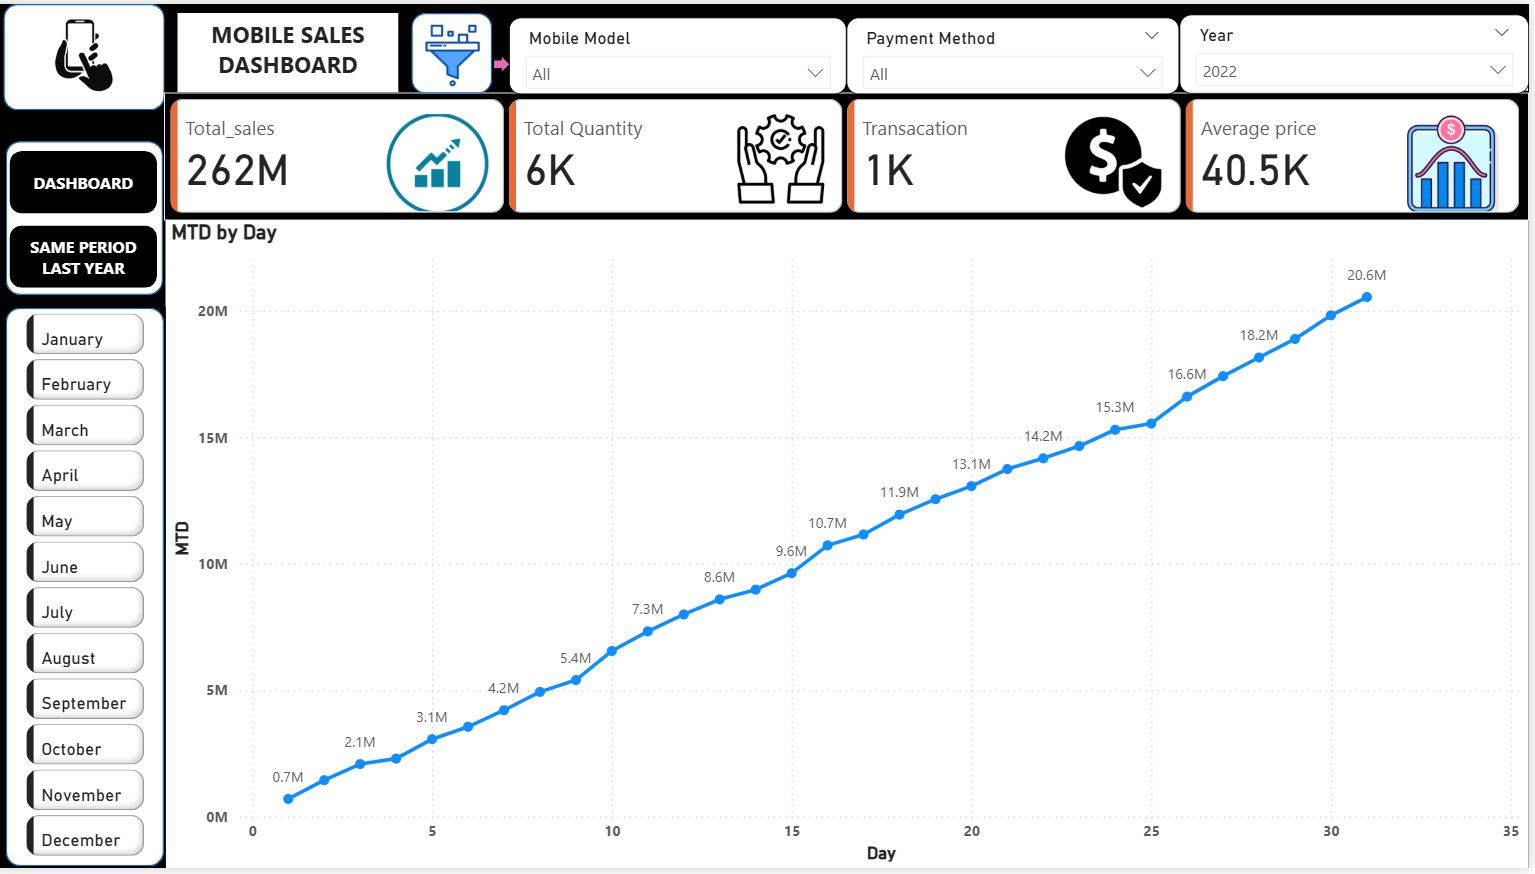

This screenshot's page, from the dashboard's own definition file:
{"tool":"powerbi","page":{"name":"MTD REPORT","canvas":[1280,720],"ordinal":1},"visuals":[{"type":"shape","box":[10,114.3,132.9,130],"z":0},{"type":"shape","box":[8.6,0,134.3,88.6],"z":1000},{"type":"image","box":[8.6,0,134.3,85.7],"z":2000},{"type":"cardVisual","fields":{"Data":["Mobile_sales_data.Total_sales","Mobile_sales_data.Total Quantity","Mobile_sales_data.Transacation","Mobile_sales_data.Average price"]},"box":[142.6,73.8,1137,105.7],"z":3000},{"type":"slicer","fields":{"Values":["Mobile_sales_data.Payment Method"]},"box":[711.4,11.4,277.1,64.3],"z":4000},{"type":"slicer","fields":{"Values":["Mobile_sales_data.Mobile Model"]},"box":[430,11.4,281.4,64.3],"z":5000},{"type":"slicer","fields":{"Values":["Date.Date.Variation.Date Hierarchy.Year"]},"box":[988.6,8.6,291.4,65.7],"z":6000},{"type":"shape","box":[348.6,7.1,67.1,67.1],"z":7000},{"type":"image","box":[350,11.4,65.7,62.9],"z":8000},{"type":"shape","box":[417.1,44.3,12.9,12.9],"z":9000},{"type":"textbox","box":[154.3,7.1,184.3,65.7],"z":10000},{"type":"lineChart","fields":{"Y":["Mobile_sales_data.MTD"],"Category":["Date.Date.Variation.Date Hierarchy.Day"]},"box":[143.9,179.5,1135.7,539.8],"z":11000},{"type":"shape","box":[10.2,252.1,133.7,467.3],"z":12000},{"type":"advancedSlicerVisual","fields":{"Values":["Date.Date.Variation.Date Hierarchy.Month"]},"box":[22.9,252.1,108.2,467.3],"z":13000},{"type":"pageNavigator","box":[14,122.2,123.5,115.9],"z":14000}]}

Visuals, with their boxes in screenshot pixels (x1, y1, x2, y2), scaled from the page's 1280x720 canvas onto the 1535x874 screenshot:
shape: {"left": 12, "top": 139, "right": 171, "bottom": 297}
shape: {"left": 10, "top": 0, "right": 171, "bottom": 108}
image: {"left": 10, "top": 0, "right": 171, "bottom": 104}
cardVisual - Mobile_sales_data.Total_sales x Mobile_sales_data.Total Quantity: {"left": 171, "top": 90, "right": 1534, "bottom": 218}
slicer - Mobile_sales_data.Payment Method: {"left": 853, "top": 14, "right": 1185, "bottom": 92}
slicer - Mobile_sales_data.Mobile Model: {"left": 516, "top": 14, "right": 853, "bottom": 92}
slicer - Date.Date.Variation.Date Hierarchy.Year: {"left": 1186, "top": 10, "right": 1534, "bottom": 90}
shape: {"left": 418, "top": 9, "right": 499, "bottom": 90}
image: {"left": 420, "top": 14, "right": 499, "bottom": 90}
shape: {"left": 500, "top": 54, "right": 516, "bottom": 69}
textbox: {"left": 185, "top": 9, "right": 406, "bottom": 88}
lineChart - Mobile_sales_data.MTD x Date.Date.Variation.Date Hierarchy.Day: {"left": 173, "top": 218, "right": 1534, "bottom": 873}
shape: {"left": 12, "top": 306, "right": 173, "bottom": 873}
advancedSlicerVisual - Date.Date.Variation.Date Hierarchy.Month: {"left": 27, "top": 306, "right": 157, "bottom": 873}
pageNavigator: {"left": 17, "top": 148, "right": 165, "bottom": 289}
